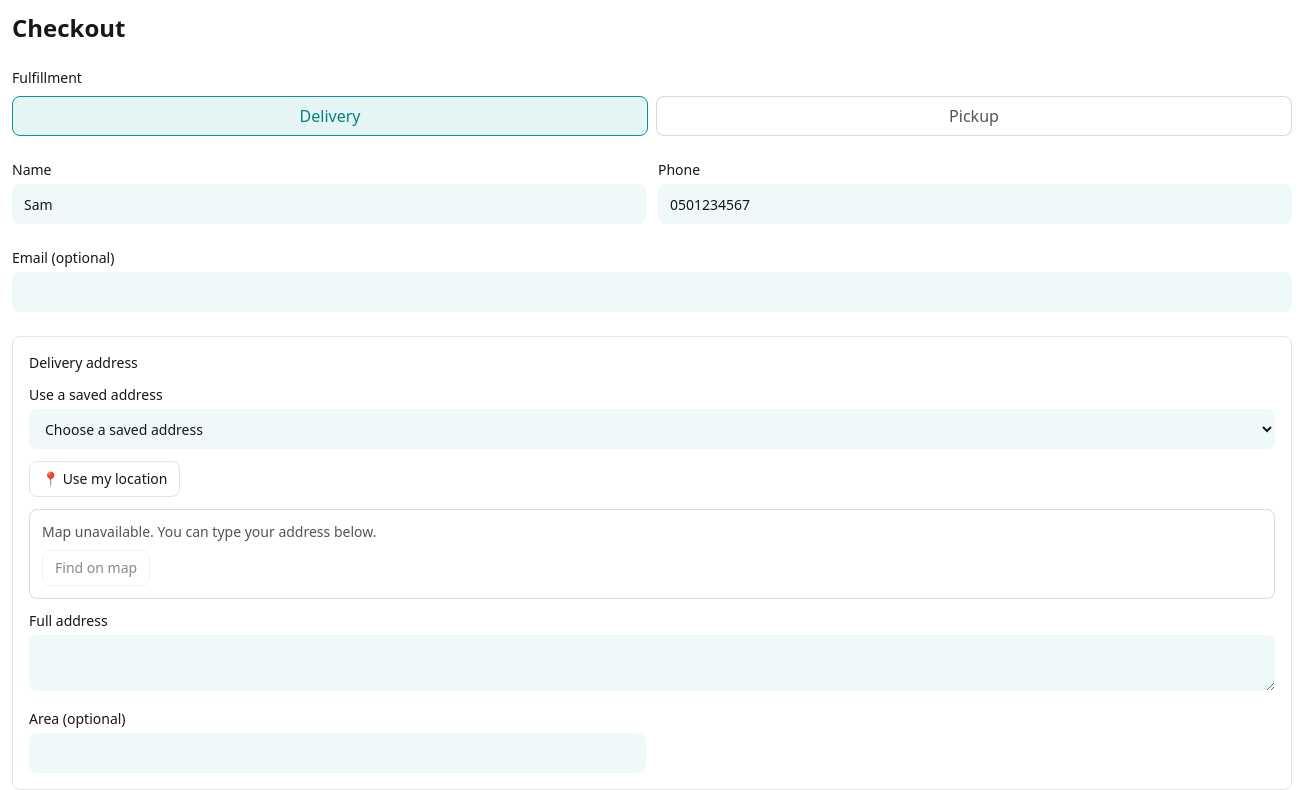
fulfilment selector (single layout) › saved-address picker is a delivery-only control
The image size is (1304, 790).
Expected: the text "Use a saved address" is shown, [29,385,163,404]
Click the button "Pickup": (974, 116) [656,96,1292,136]
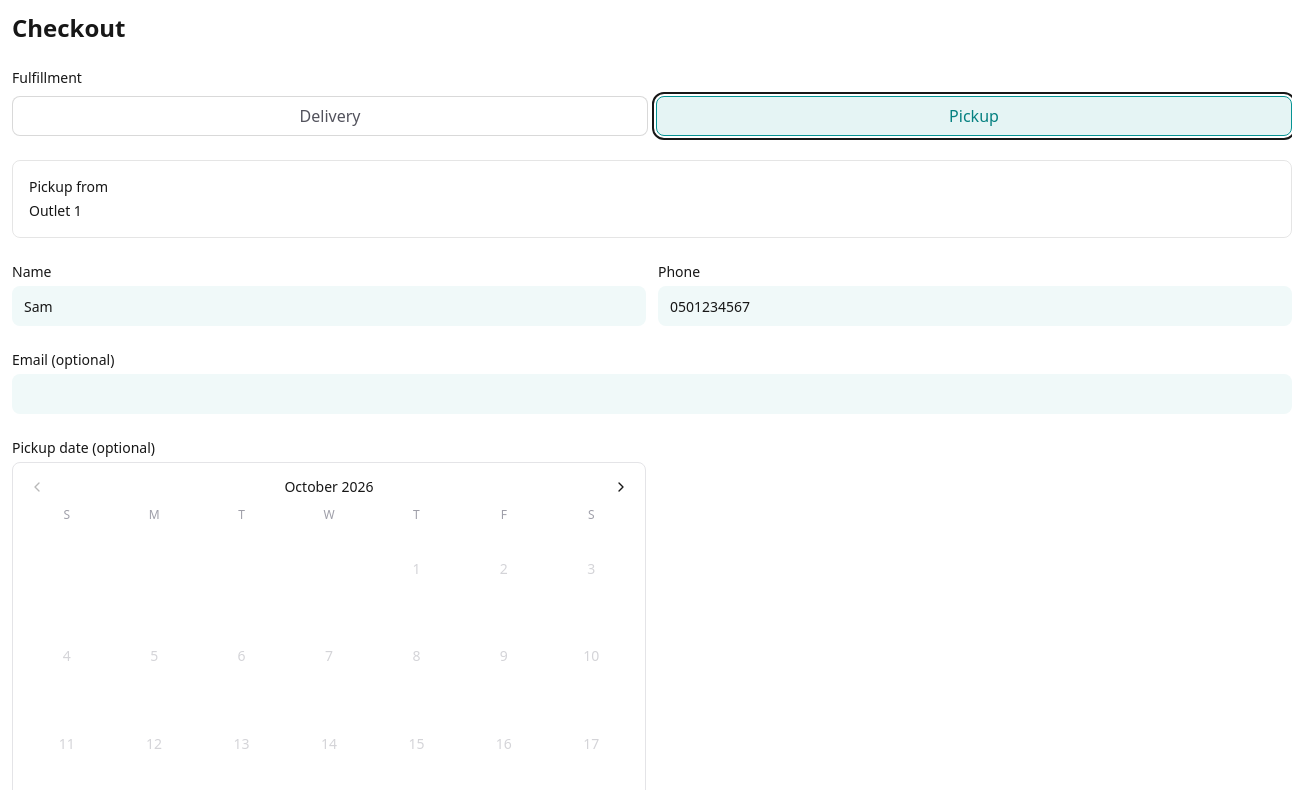
Result: the text "Use a saved address" is gone
